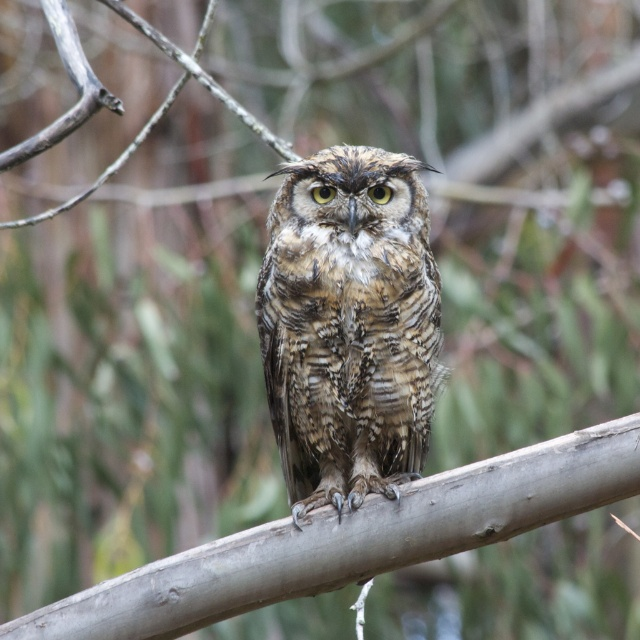Owl: (257, 142, 446, 533)
